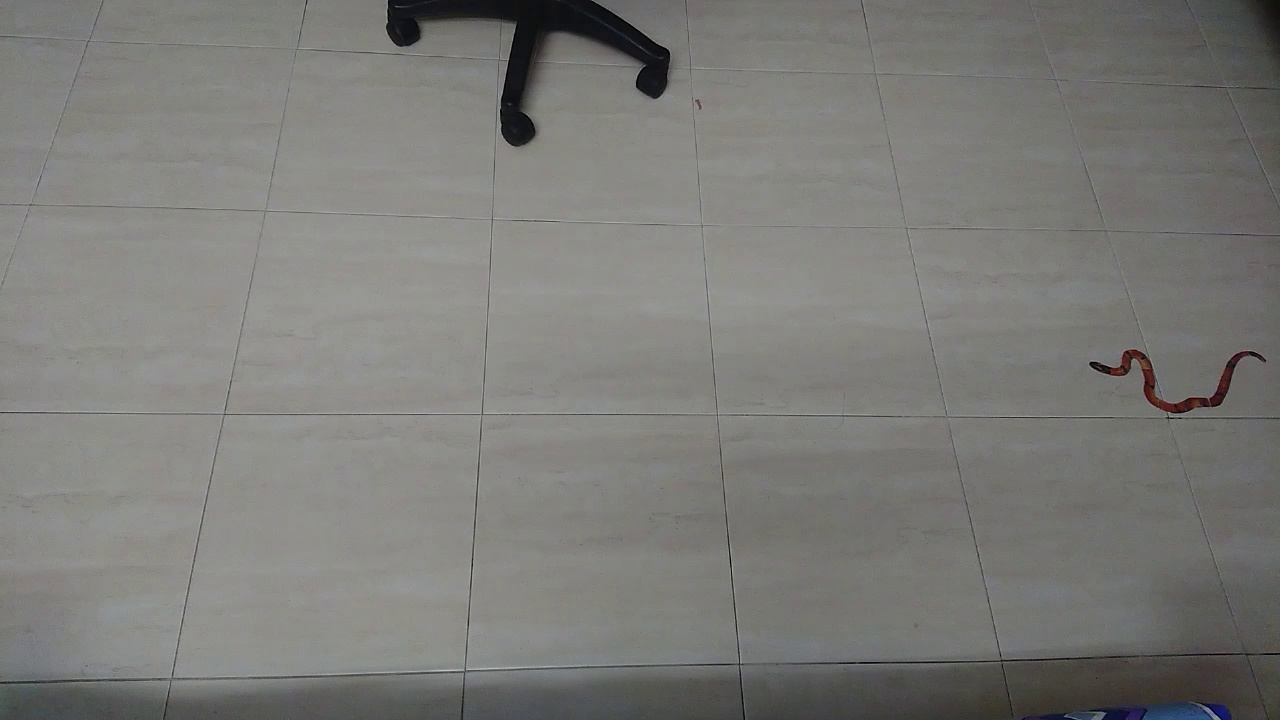snake: (1068, 324, 1280, 429)
